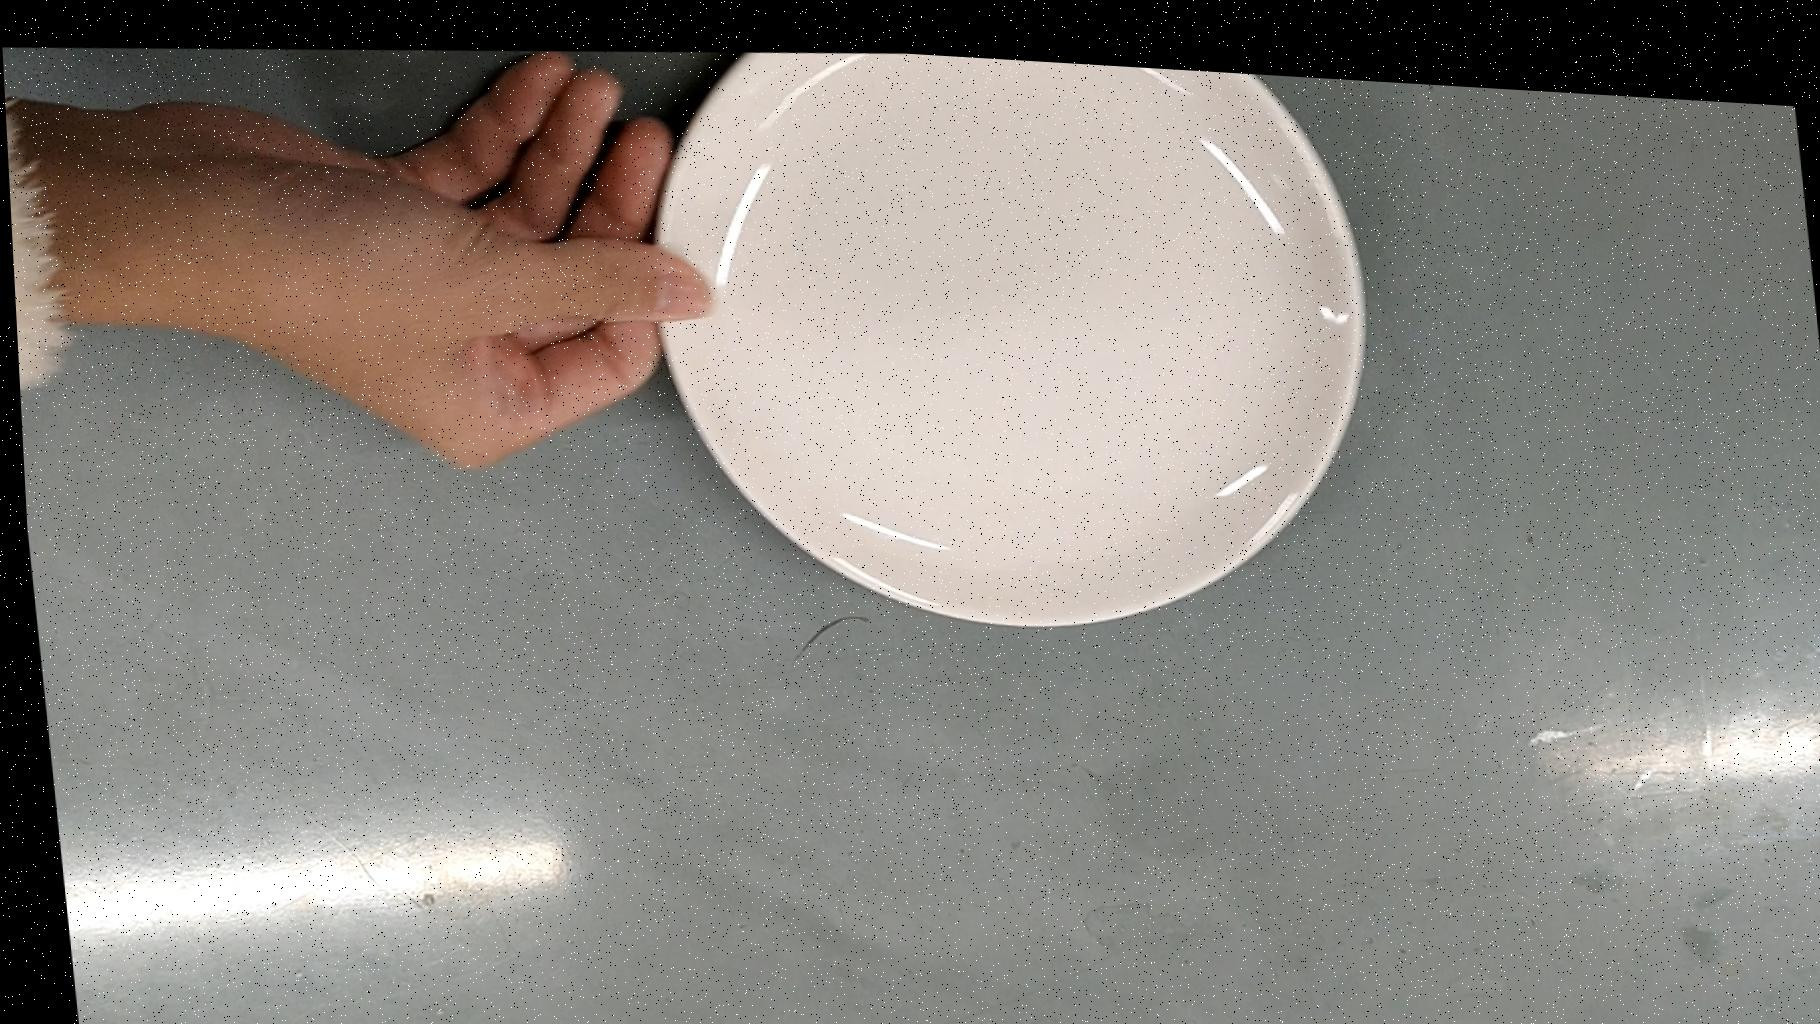plate: (624, 29, 1390, 655)
